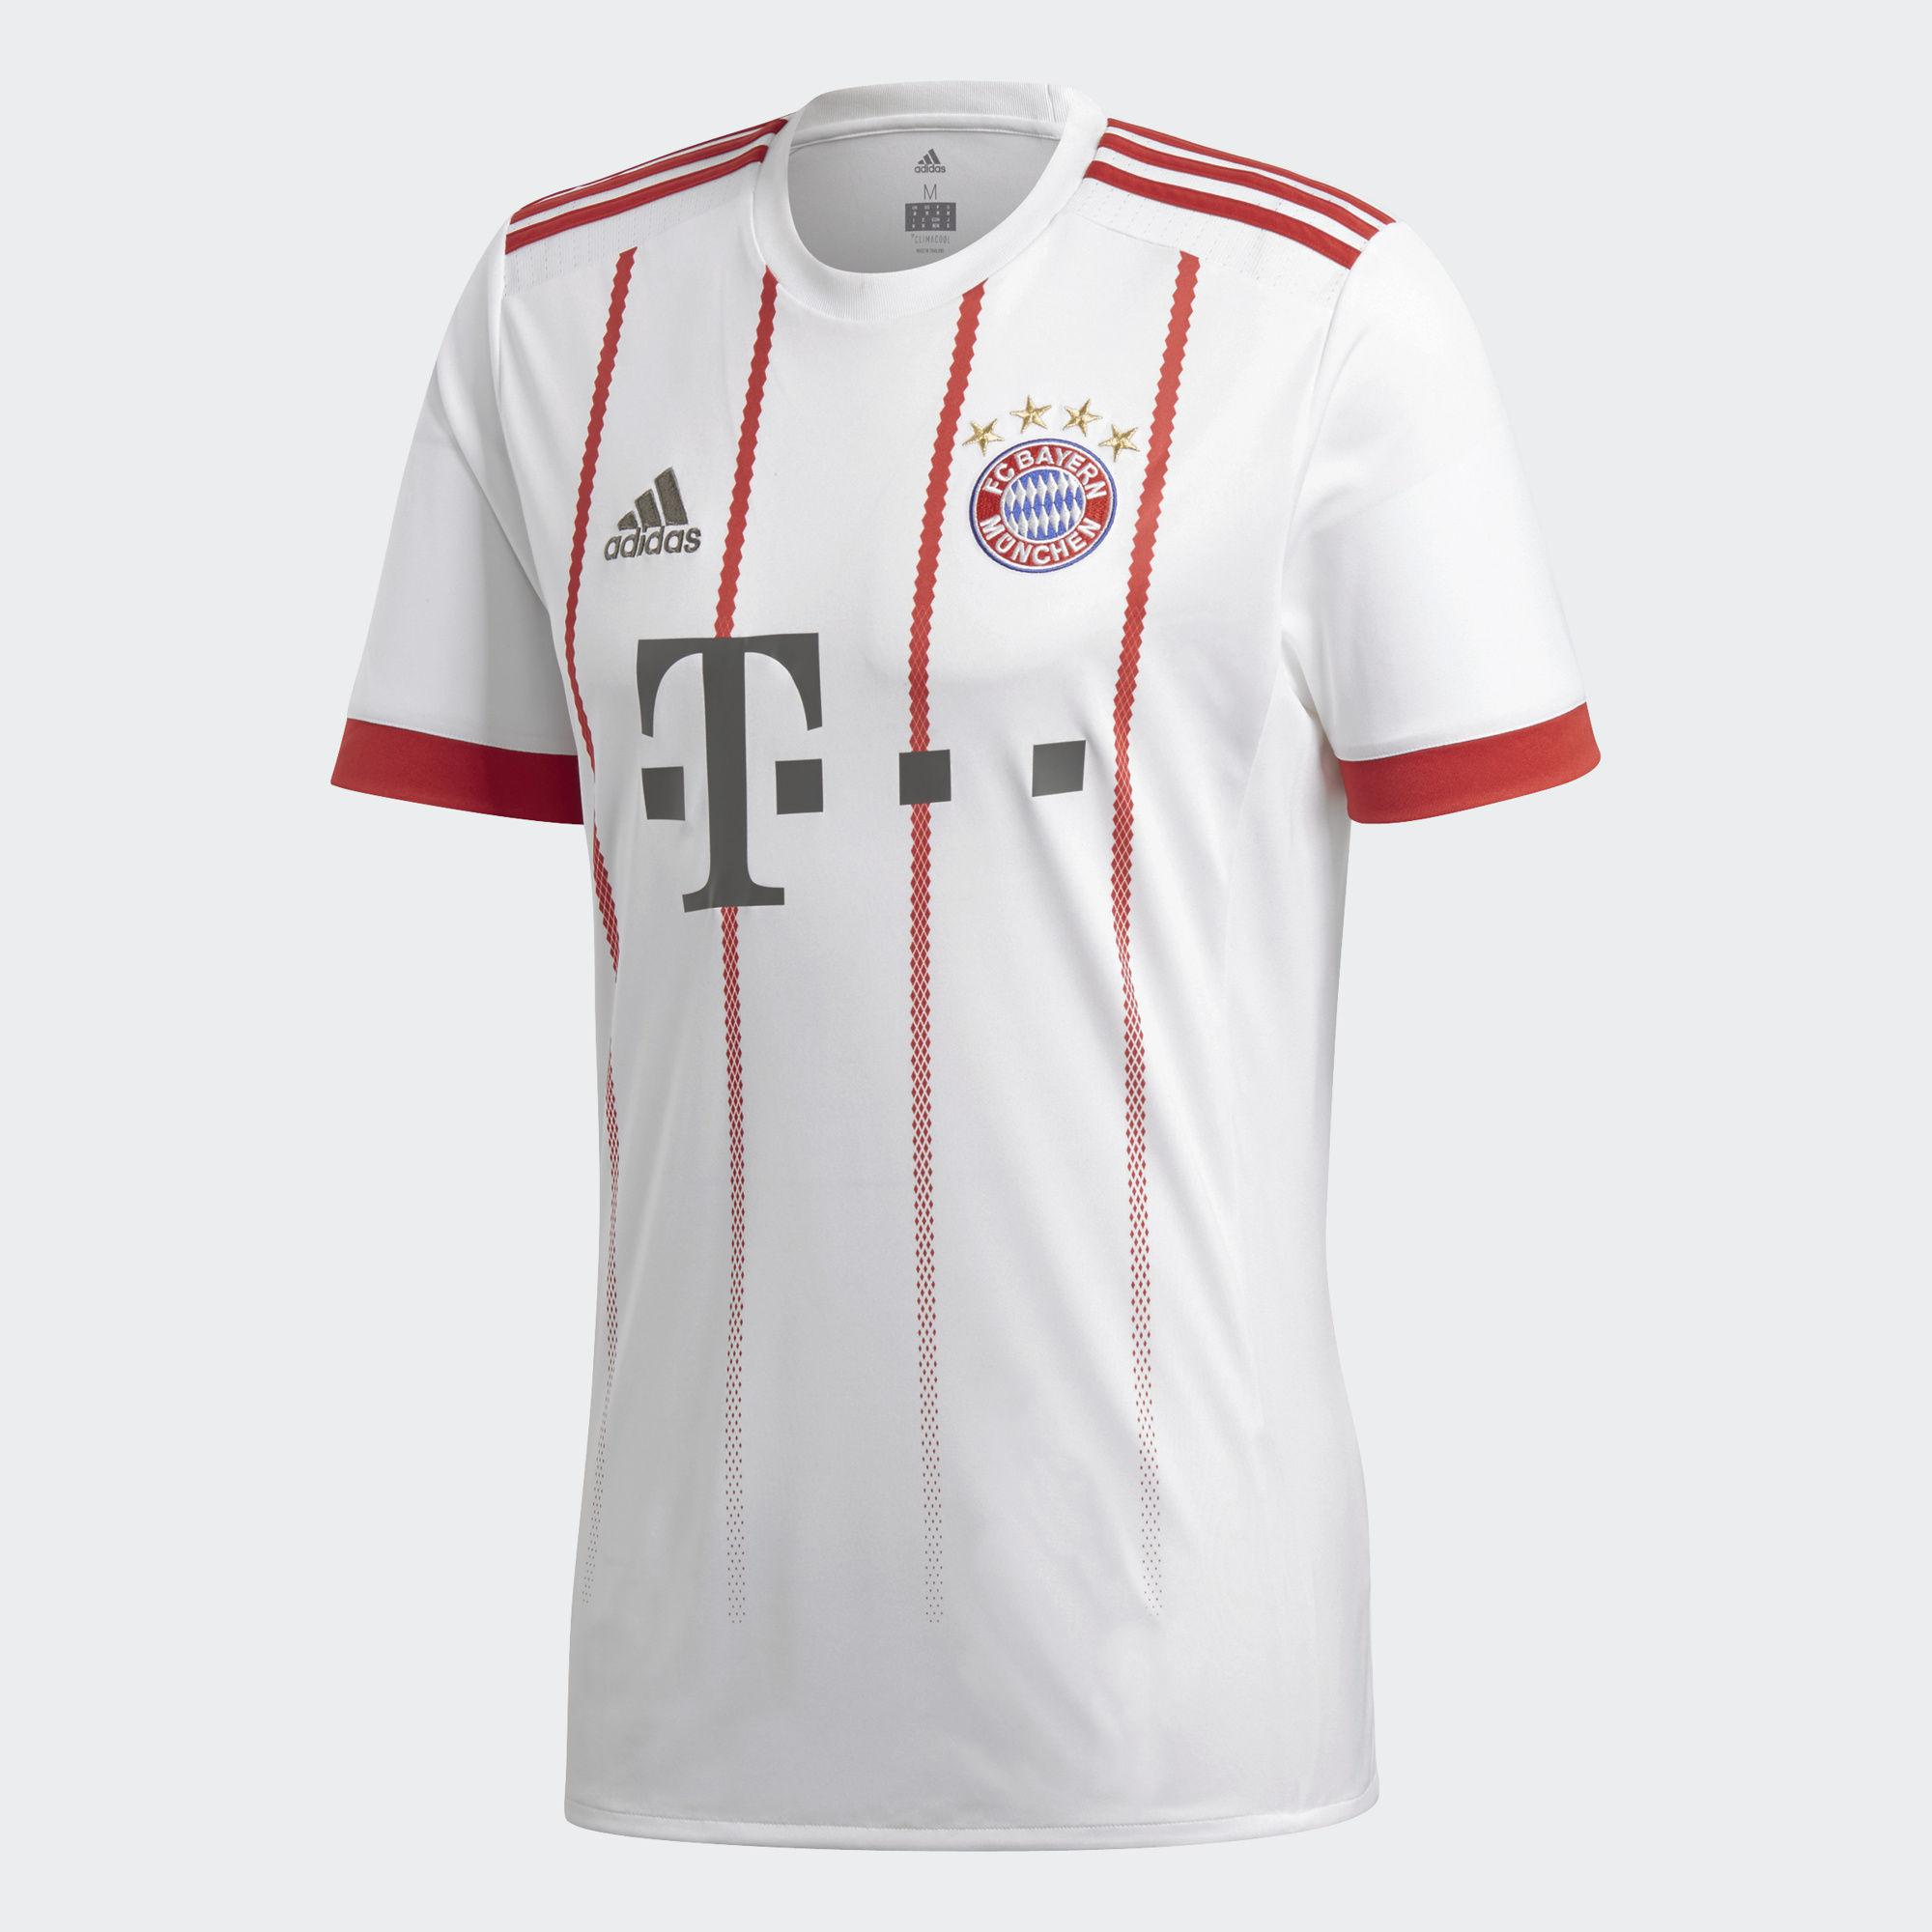teeshirt: (274, 87, 1652, 1845)
